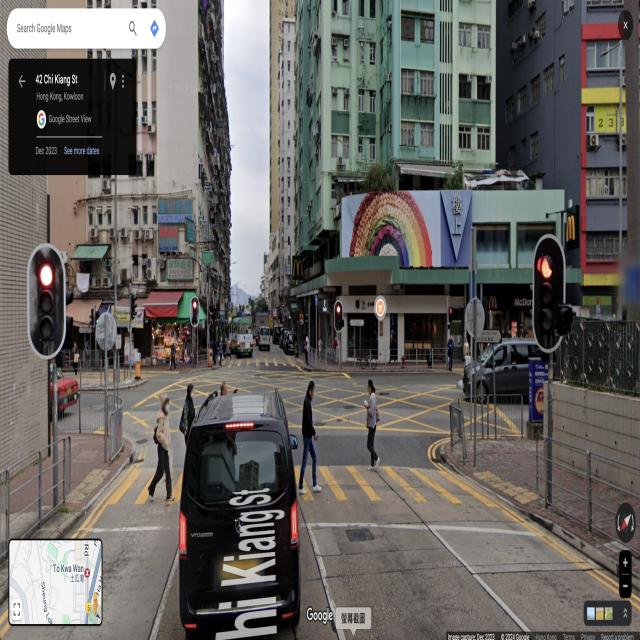Direction-Sign: (315, 295, 318, 305), (222, 314, 224, 322)
Order-Sign: (220, 299, 224, 310)
Street-Direction-Sign: (350, 319, 364, 326)
